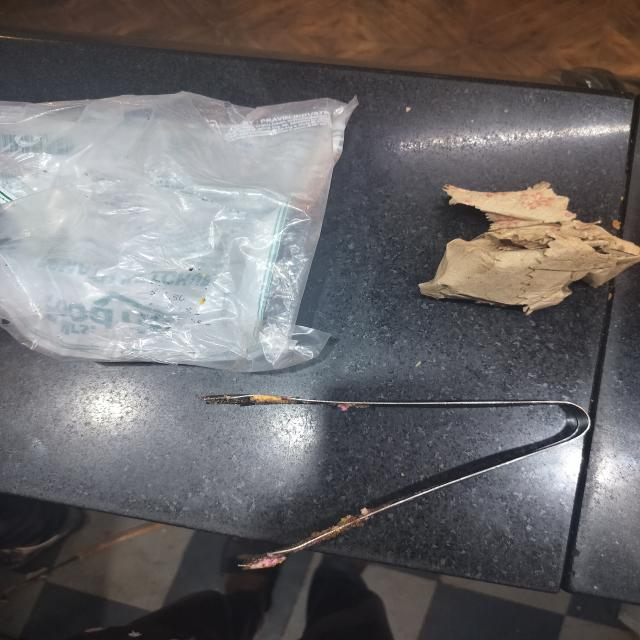metal: (178, 392, 582, 578)
paper: (415, 165, 630, 338)
plastic: (5, 69, 360, 375)
